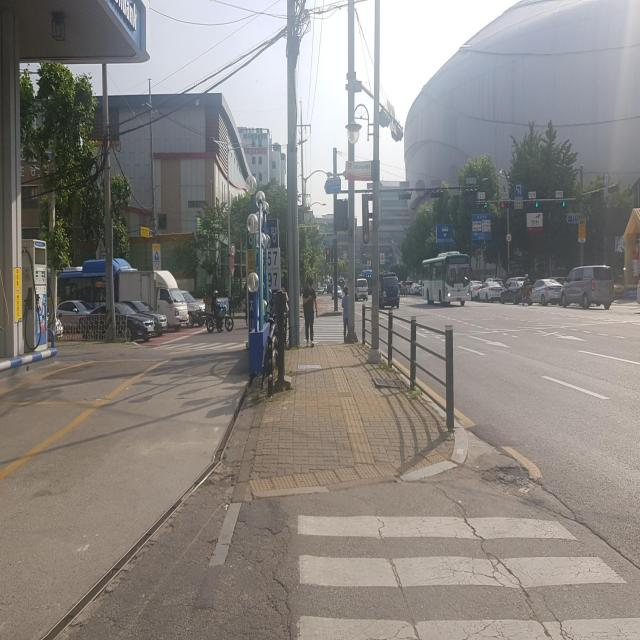빨간불: (325, 246, 330, 265)
횡단보도: (296, 512, 640, 640)
